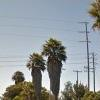Palm tree: (14, 32, 68, 92)
